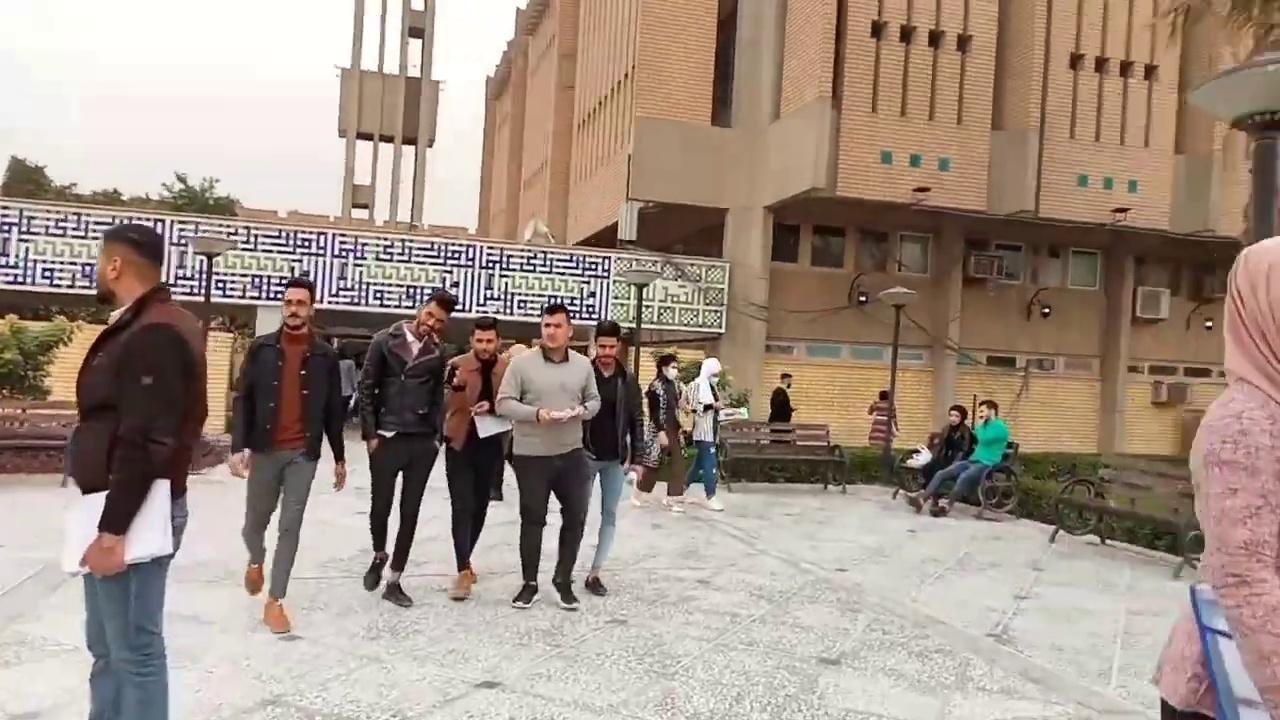person: (62, 223, 209, 719), (1152, 234, 1279, 719), (228, 276, 346, 634), (494, 303, 602, 610), (357, 288, 459, 607), (441, 315, 512, 600), (579, 320, 646, 596), (626, 352, 688, 512), (925, 398, 1009, 516), (904, 403, 974, 514), (680, 356, 726, 511), (866, 388, 899, 482), (335, 345, 359, 426), (767, 372, 798, 424)
tree: (1, 152, 241, 216), (0, 307, 85, 401), (650, 345, 751, 412), (158, 170, 239, 216), (0, 153, 54, 198)
